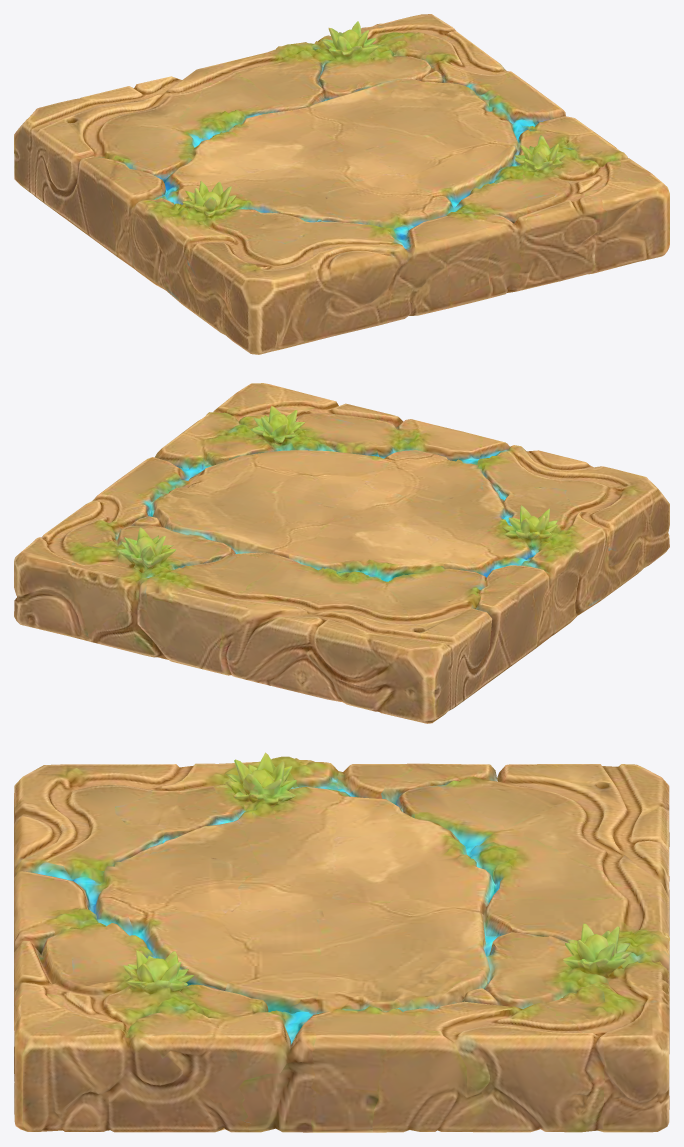
Rendered from sun-cracked-sandstone.glb.
3 views of the same model, one above another, from view 1: azimuth 30°, elevation 25°; view 2: azimuth 150°, elevation 25°; view 3: azimuth 270°, elevation 25° (orthographic). The views are drawn at different scales.
Bounding box in the file's own units: 1.9 × 0.4186 × 1.89.
1 material, 1 textured.
